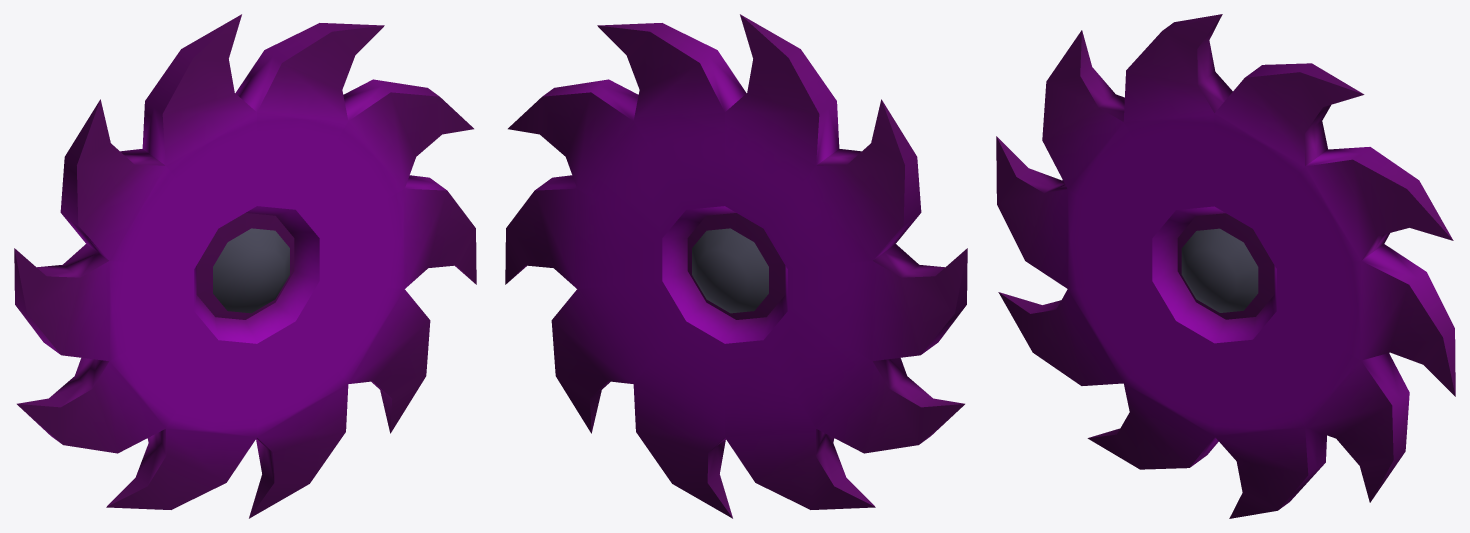
File: O_CircSaw_01.fbx
The picture shows the model from 3 angles, left to right: view 1: azimuth 30°, elevation 25°; view 2: azimuth 150°, elevation 25°; view 3: azimuth 330°, elevation 25°; orthographic projection.
Visible parts, largest first — view 1: Circ_Saw_02.002; view 2: Circ_Saw_02.002; view 3: Circ_Saw_02.002.
Part boxes in pixels (left/top/right/bottom): Circ_Saw_02.002: left=14, top=14, right=476, bottom=518; Circ_Saw_02.002: left=505, top=14, right=967, bottom=518; Circ_Saw_02.002: left=996, top=14, right=1455, bottom=518.
Size of the model in its own units: 0.9828 by 1.03 by 0.1243.
